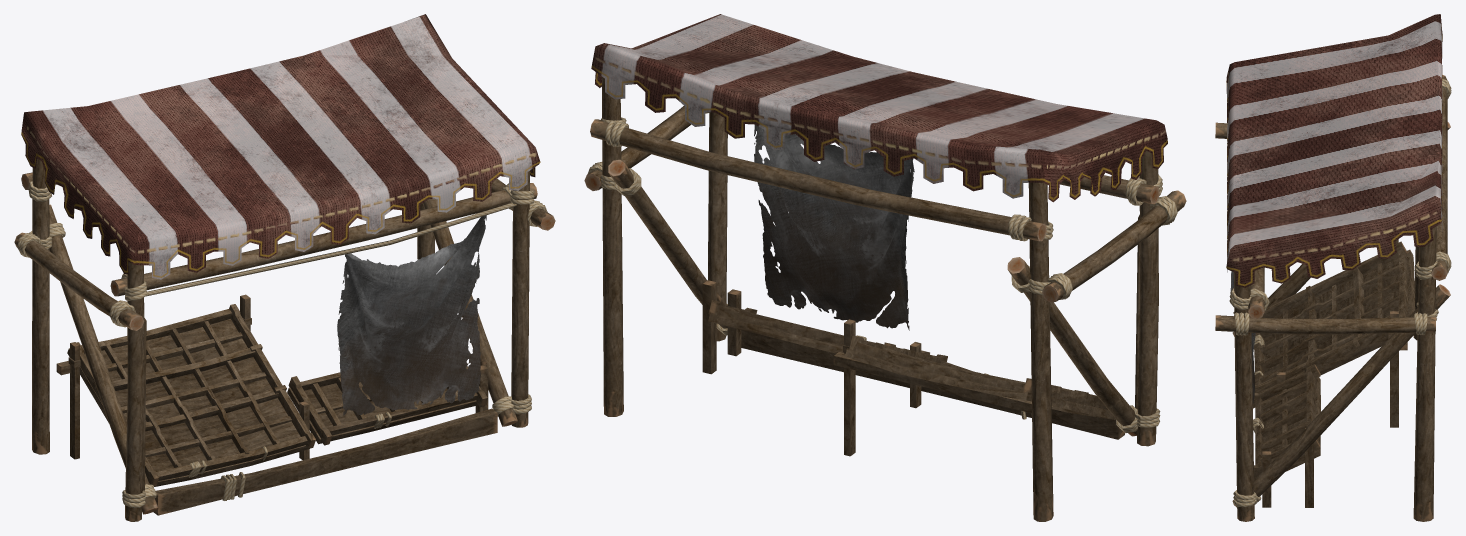
File: 1785449089393_shop.glb
3 renders of one model, left to right at view 1: azimuth 30°, elevation 25°; view 2: azimuth 150°, elevation 25°; view 3: azimuth 270°, elevation 25°, orthographic. The views are drawn at different scales.
Visible parts, largest first — view 1: polySurface211, pCube111, pCube52, pCube64, polySurface78, polySurface138, polySurface137, polySurface140, polySurface89, polySurface96, pCube71, pCube65 (+16 smaller); view 2: polySurface211, pCube111, polySurface77, polySurface138, polySurface139, polySurface137, pCube64, pCube65, polySurface89, polySurface140, polySurface93, polySurface96 (+8 smaller); view 3: polySurface211, polySurface139, polySurface93, pCube52, polySurface140, polySurface90, polySurface103, pCube65, polySurface112, polySurface77, polySurface118, pCube71 (+13 smaller).
Boxes of the visible parts, x1,y1,x2,y2 form: polySurface211: [21, 14, 540, 279]; pCube111: [337, 215, 486, 415]; pCube52: [67, 319, 309, 486]; pCube64: [153, 408, 497, 515]; polySurface78: [110, 183, 537, 296]; polySurface138: [32, 159, 49, 454]; polySurface137: [125, 261, 144, 521]; polySurface140: [511, 171, 529, 427]; polySurface89: [49, 204, 158, 514]; polySurface96: [14, 232, 144, 330]; pCube71: [287, 382, 477, 444]; pCube65: [70, 294, 488, 460]; polySurface211: [591, 14, 1167, 202]; pCube111: [754, 124, 914, 330]; polySurface77: [590, 119, 1046, 241]; polySurface138: [1028, 182, 1053, 521]; polySurface139: [602, 77, 623, 416]; polySurface137: [1137, 150, 1158, 446]; pCube64: [741, 330, 1124, 439]; pCube65: [702, 280, 921, 456]; polySurface89: [1007, 257, 1137, 436]; polySurface140: [708, 112, 727, 341]; polySurface93: [608, 159, 727, 328]; polySurface96: [1042, 190, 1186, 302]; polySurface211: [1226, 14, 1442, 287]; polySurface139: [1413, 226, 1436, 521]; polySurface93: [1232, 284, 1450, 507]; pCube52: [1263, 249, 1415, 376]; polySurface140: [1233, 272, 1254, 521]; polySurface90: [1215, 315, 1435, 334]; polySurface103: [1260, 380, 1306, 463]; pCube65: [1262, 239, 1398, 507]; polySurface112: [1262, 241, 1406, 318]; polySurface77: [1431, 75, 1447, 280]; polySurface118: [1254, 315, 1402, 392]; pCube71: [1263, 377, 1320, 471].
Bounding box in the file's own units: 5.89 × 4.39 × 2.89.
1 material, 1 textured.
